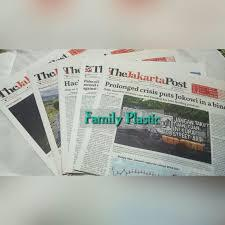Kertas: (57, 47, 225, 176), (0, 49, 112, 175)
